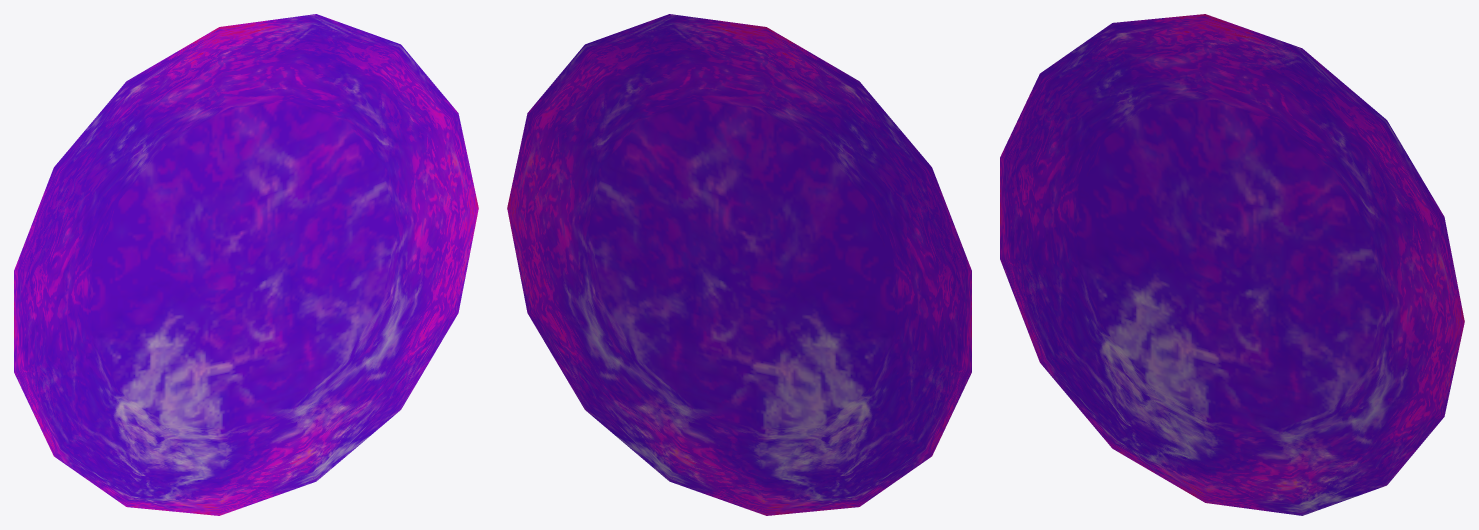
Rendered from Shield Double.glb.
The picture shows the model from 3 angles, left to right: view 1: azimuth 30°, elevation 25°; view 2: azimuth 150°, elevation 25°; view 3: azimuth 330°, elevation 25°; orthographic projection.
Visible parts, largest first — view 1: Shield Double; view 2: Shield Double; view 3: Shield Double.
Part boxes in pixels (left/top/right/bottom): Shield Double: left=14, top=14, right=478, bottom=515; Shield Double: left=507, top=14, right=971, bottom=515; Shield Double: left=1000, top=14, right=1464, bottom=515.
Bounding box in the file's own units: 2.64 × 2.65 × 6.27e-06.
Materials: 1 (1 with a texture image).
